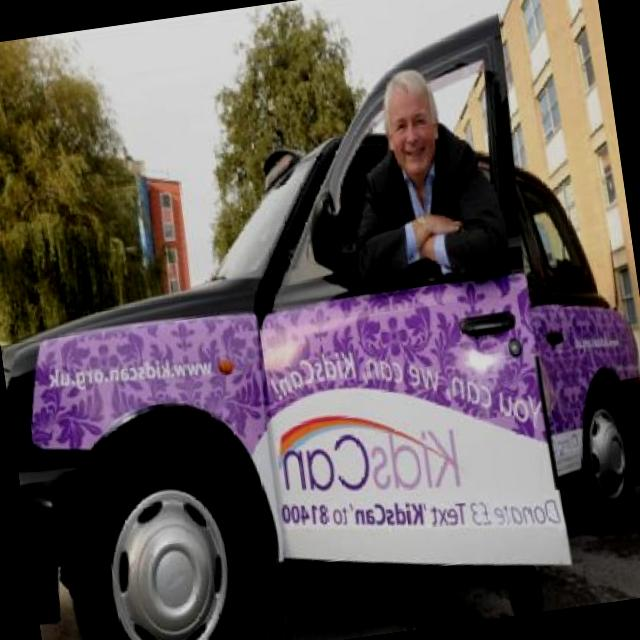Person: (330, 60, 560, 630)
